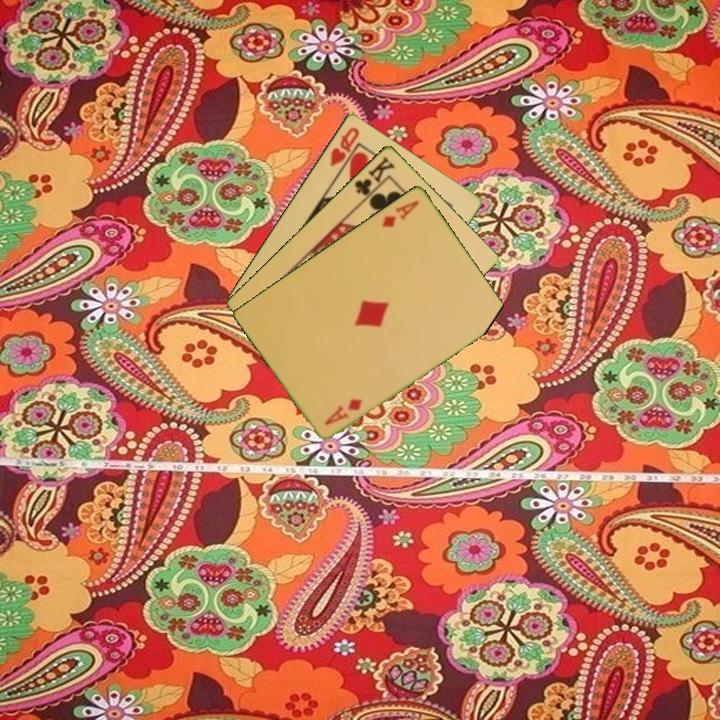Ad: (378, 196, 422, 230), (321, 395, 365, 428)
Kc: (351, 152, 398, 204)
Qh: (326, 123, 362, 169)
